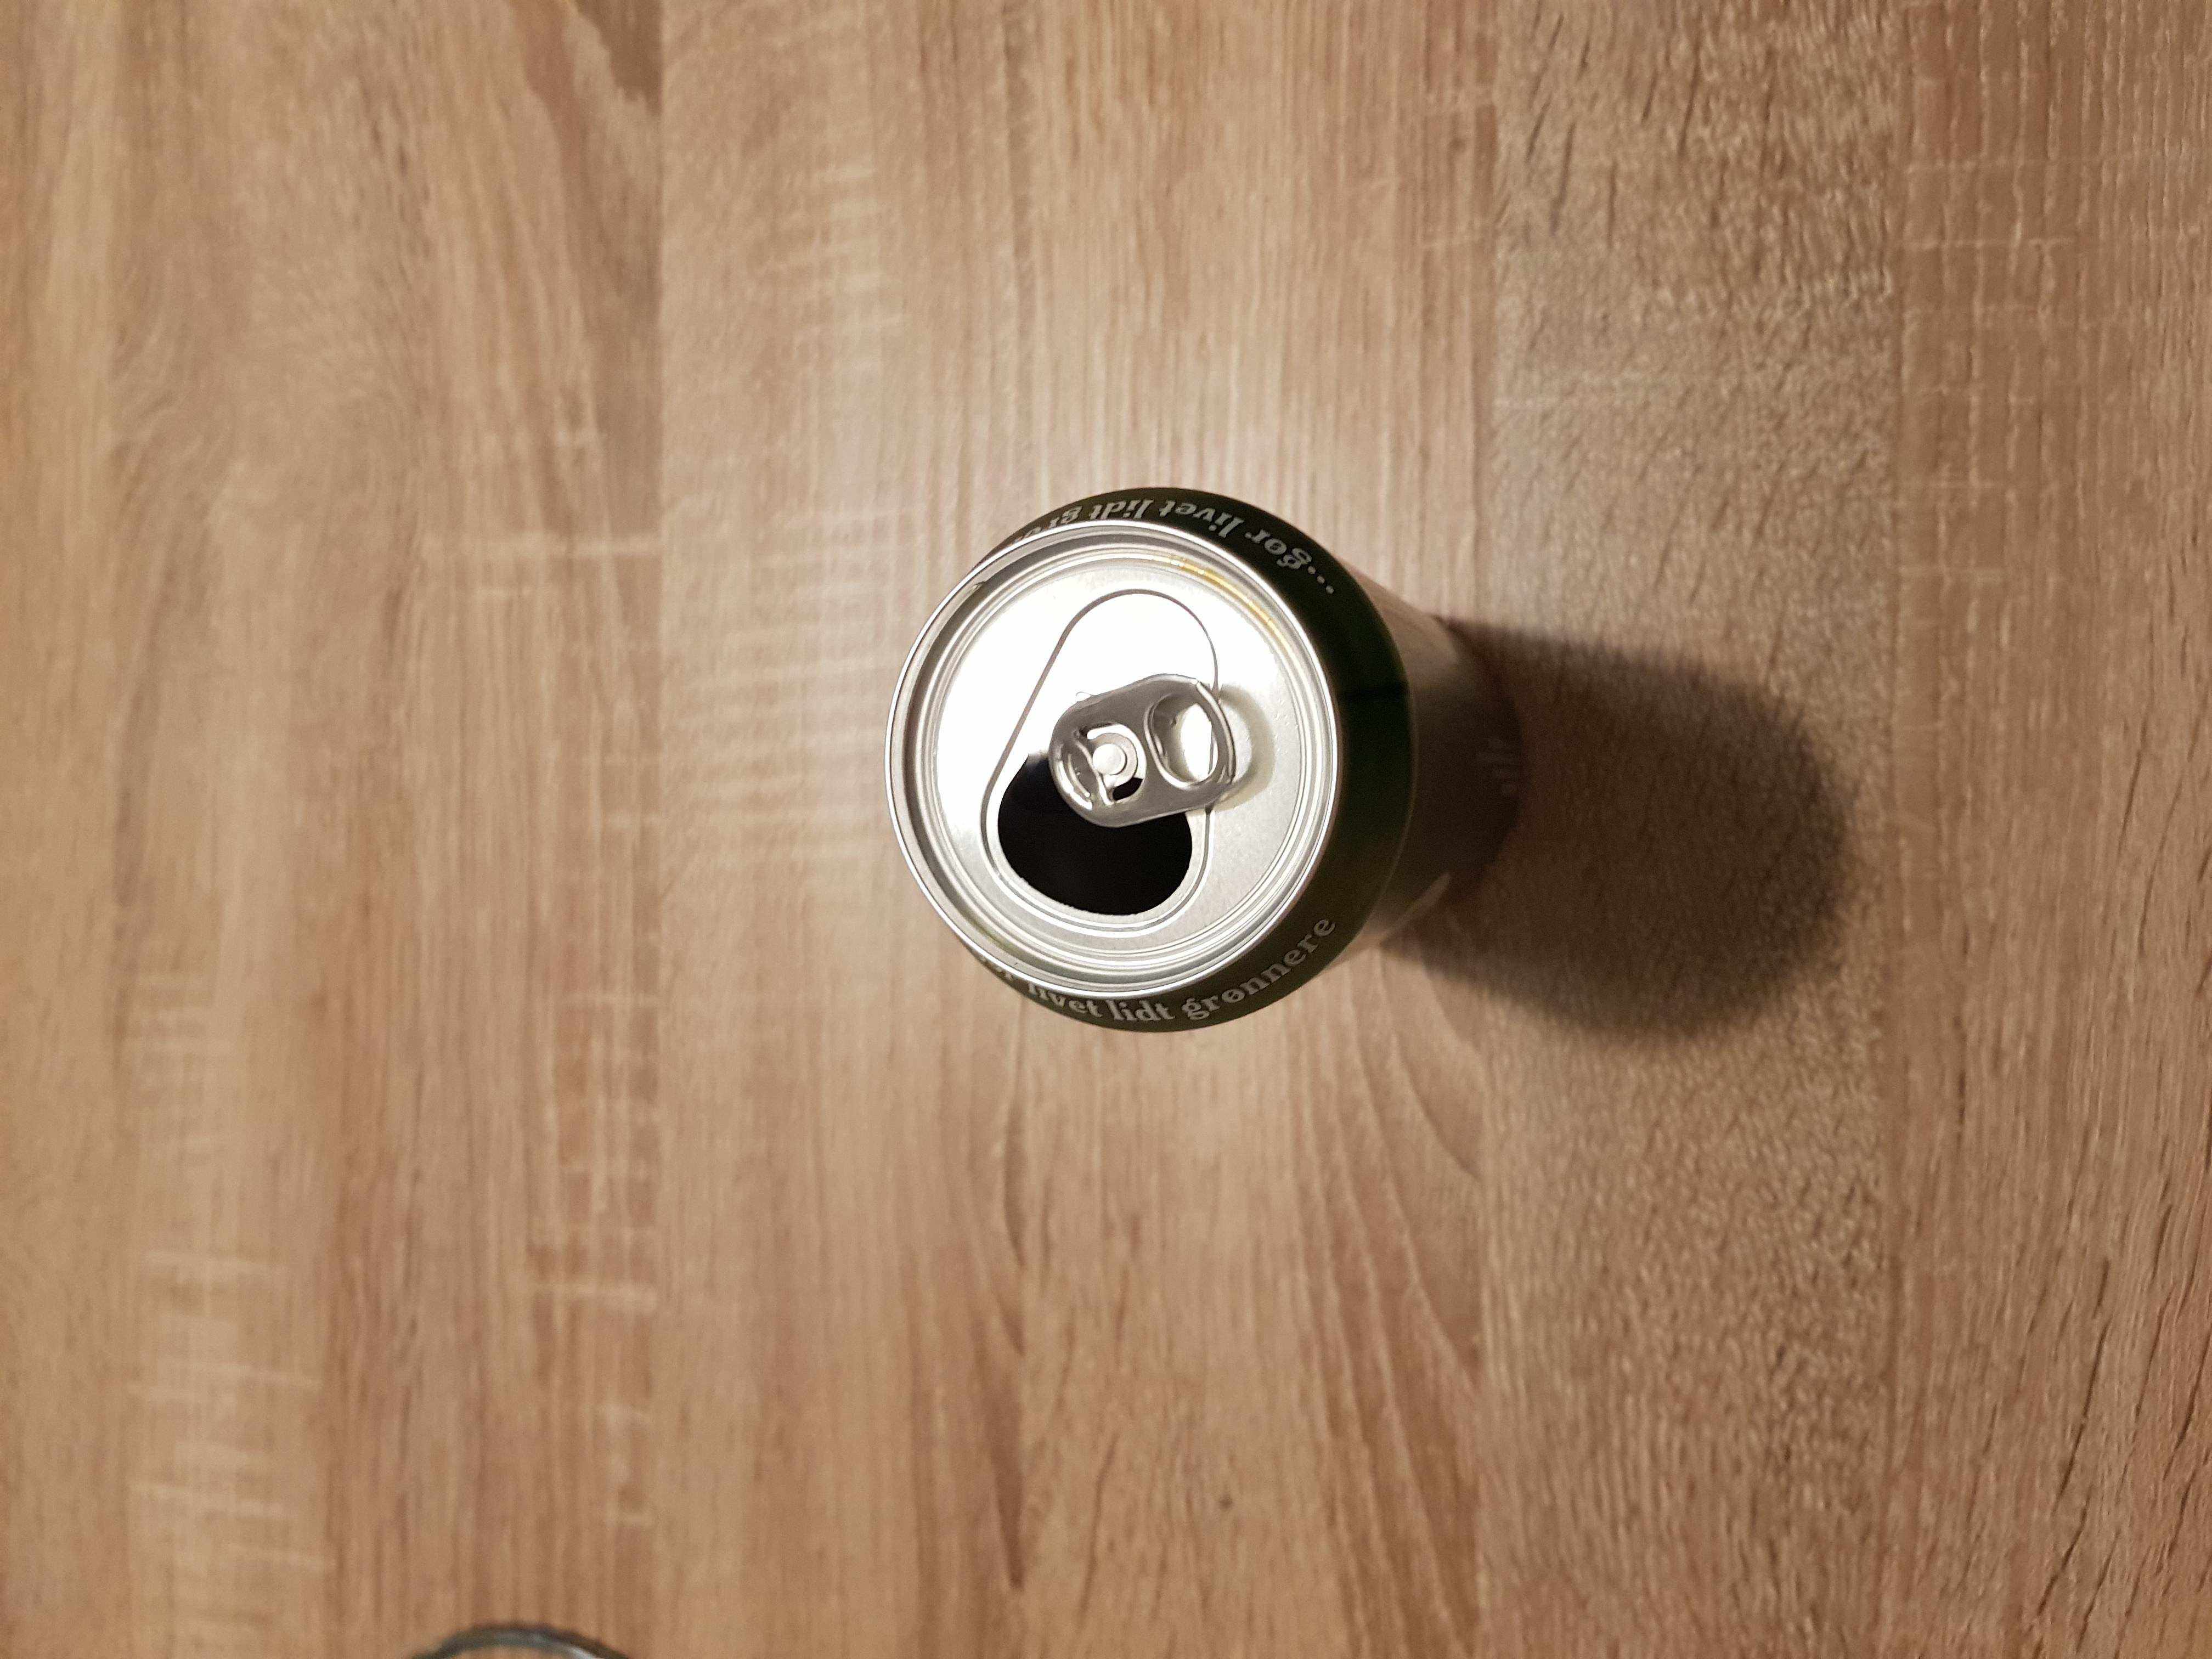Can: (881, 484, 1524, 1039)
